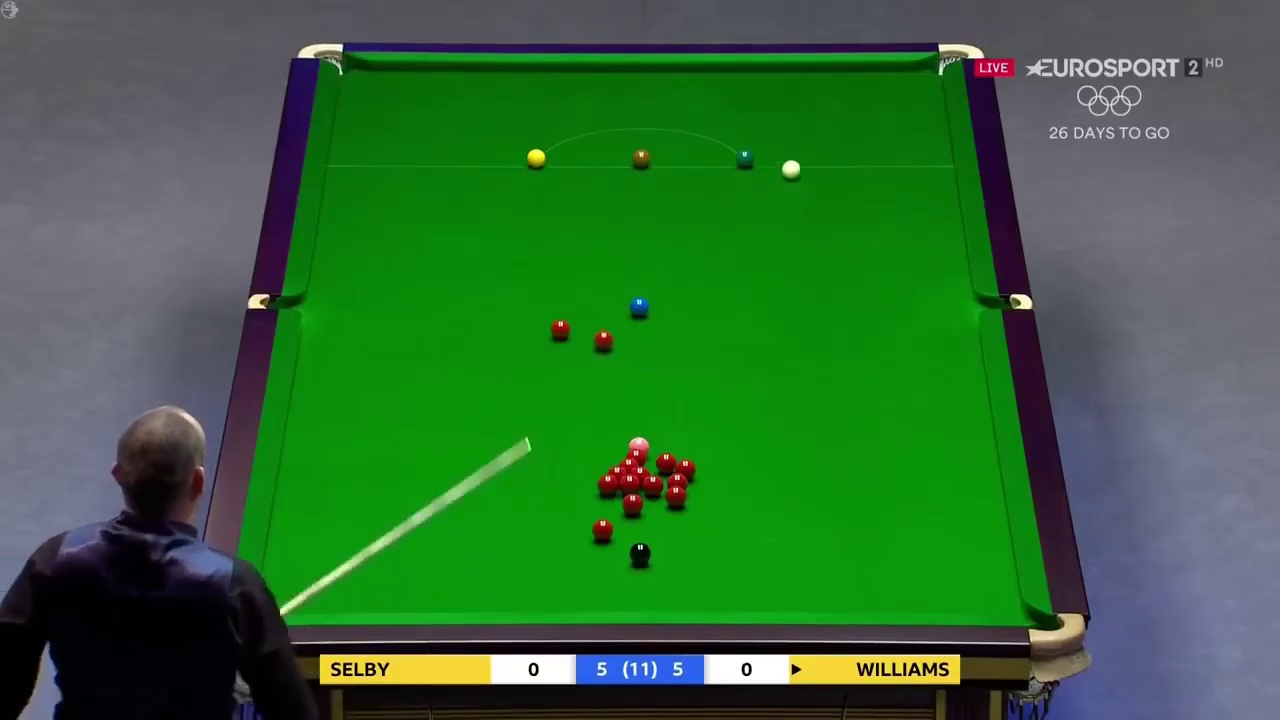ball: (589, 519, 613, 542), (629, 543, 651, 564), (523, 148, 547, 167), (623, 493, 644, 514), (779, 158, 801, 177), (551, 320, 572, 339), (593, 331, 614, 350), (732, 150, 752, 169), (668, 490, 688, 507), (628, 300, 647, 316), (633, 152, 650, 167)
